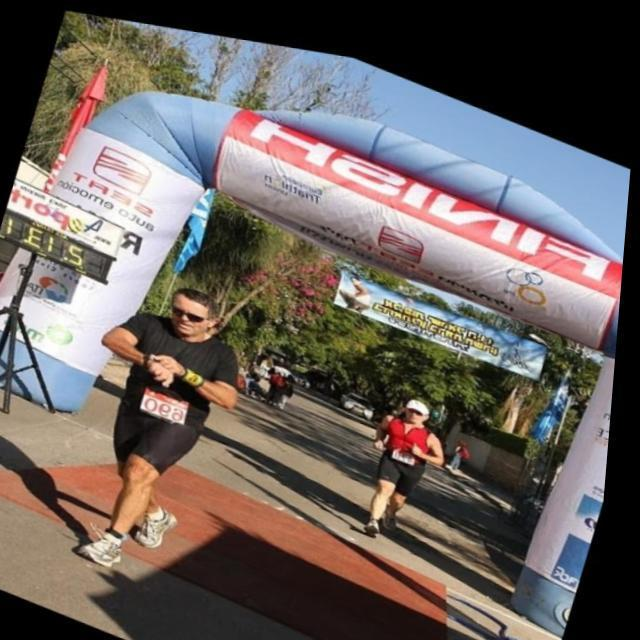dorsal: (140, 377, 198, 422)
